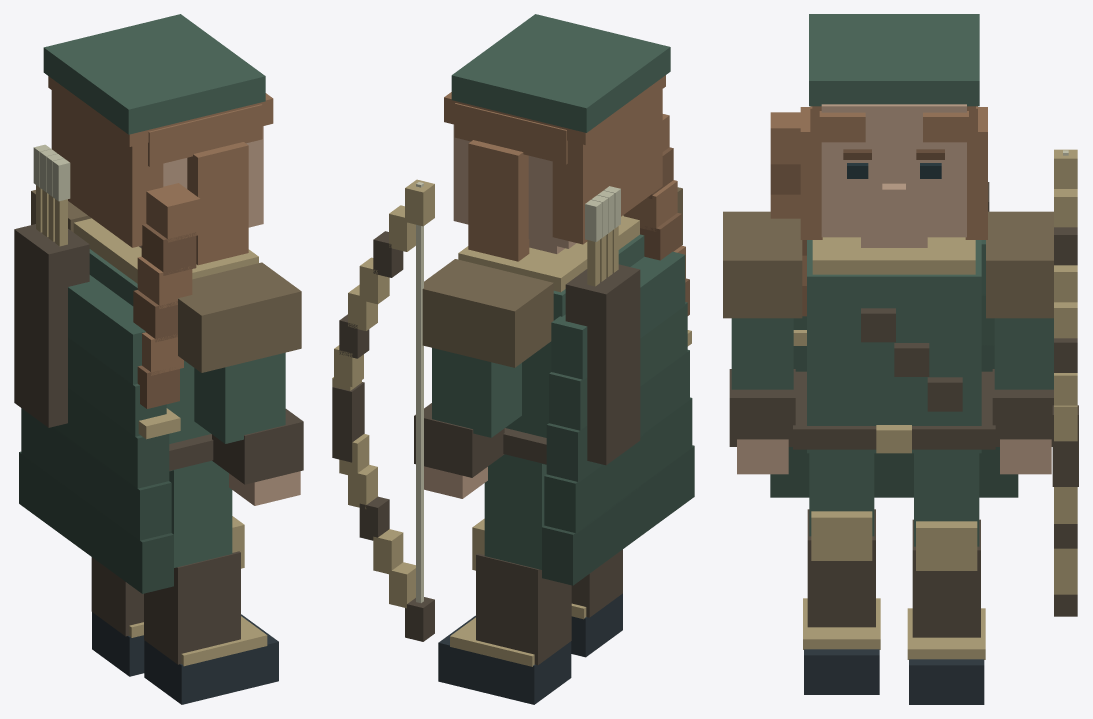
File: enemy-humanoid-bow-female.glb
The picture shows the model from 3 angles, left to right: view 1: azimuth 30°, elevation 25°; view 2: azimuth 150°, elevation 25°; view 3: azimuth 270°, elevation 25°; orthographic projection.
Parts seen in each view (by area): view 1: Cloak, Boots, Hood, Hair, Shoulders, Quiver, Braid, Sleeves, SideLocks, Legs, Bracers, Collar (+9 smaller); view 2: Cloak, Boots, Hood, Hair, BowLimbs, Shoulders, Quiver, SideLocks, Sleeves, Legs, Braid, Head (+10 smaller); view 3: Torso, Boots, Shoulders, Hood, Head, BowLimbs, Sleeves, Legs, Bracers, Cloak, Kneeguards, Collar (+14 smaller).
Boxes of the visible parts, x1,y1,x2,y2 form: Cloak: (19, 275, 173, 593); Boots: (91, 551, 278, 704); Hood: (43, 14, 265, 134); Hair: (48, 76, 262, 247); Shoulders: (31, 190, 301, 372); Quiver: (14, 224, 89, 427); Braid: (133, 183, 200, 408); Sleeves: (194, 352, 285, 443); SideLocks: (187, 142, 248, 265); Legs: (169, 461, 232, 567); Bracers: (212, 409, 303, 484); Collar: (73, 218, 258, 283); Cloak: (542, 251, 694, 585); Boots: (438, 549, 622, 704); Hood: (451, 14, 670, 132); Hair: (454, 75, 665, 244); BowLimbs: (332, 179, 434, 641); Shoulders: (422, 187, 682, 367); Quiver: (565, 264, 640, 465); SideLocks: (468, 140, 529, 261); Sleeves: (432, 348, 521, 437); Legs: (484, 454, 546, 569); Braid: (624, 114, 689, 315); Head: (453, 124, 576, 248); Torso: (807, 240, 981, 453); Boots: (804, 509, 984, 704); Shoulders: (723, 211, 1053, 318); Hood: (809, 14, 979, 106); Head: (821, 104, 966, 237); BowLimbs: (1054, 149, 1077, 616); Sleeves: (731, 318, 1053, 389); Legs: (809, 453, 979, 546); Bracers: (729, 369, 1053, 446); Cloak: (770, 240, 1018, 497); Kneeguards: (811, 511, 977, 570); Collar: (812, 237, 975, 274).
Bounding box in the file's own units: 3.41 × 8.59 × 4.48.
